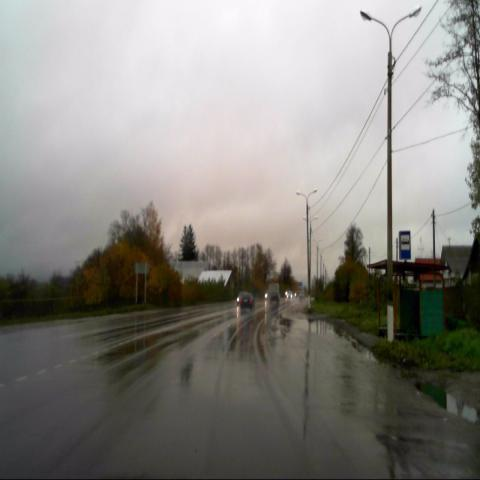5_16: (398, 230, 412, 262)
